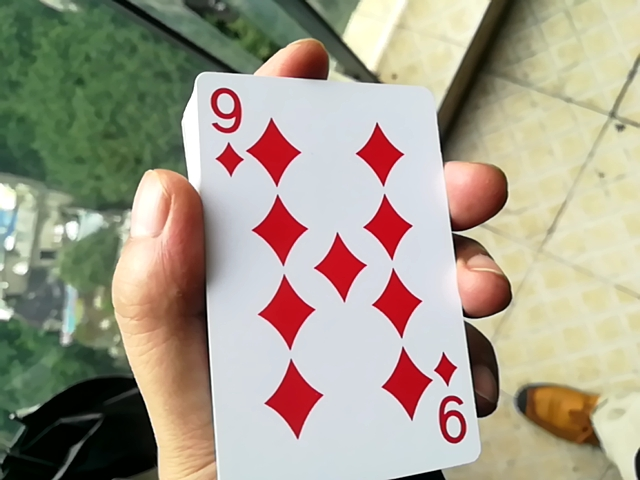fk 9: (170, 49, 476, 474)
